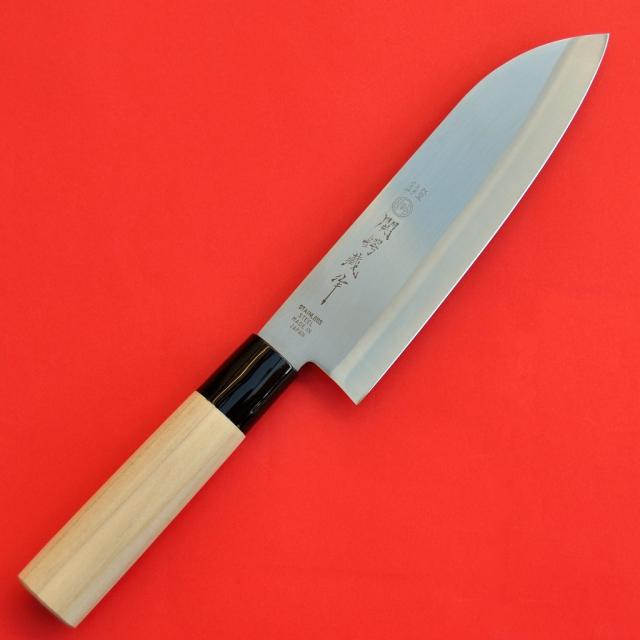Pisau: (13, 9, 625, 626)
